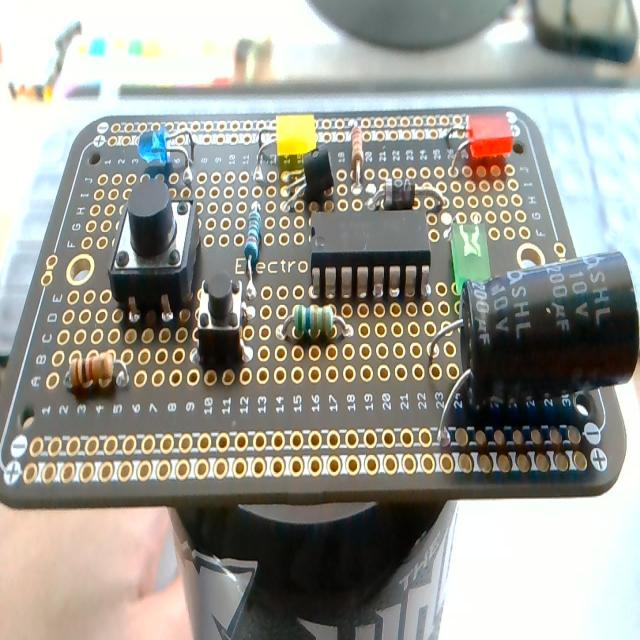Electrolytic capacitor: (428, 244, 640, 440)
IC: (301, 206, 430, 289)
diode: (369, 182, 453, 212)
led: (441, 116, 520, 167), (246, 112, 324, 161), (132, 122, 194, 180), (442, 226, 497, 289)
resistor: (50, 346, 132, 402), (280, 306, 360, 361), (246, 200, 266, 295), (345, 119, 369, 188)
switch: (106, 181, 196, 297), (194, 268, 252, 370)
transistor: (278, 140, 332, 213)
